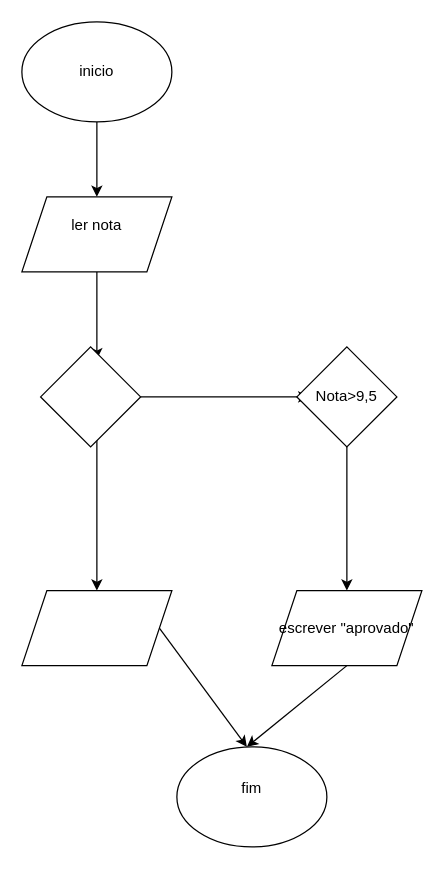
This 444x869 diagram has some shape labels left out. Each missing label, with the centre of its shape:
escrever "reprovado": point 96,627
Nota<9,5: point 90,396
